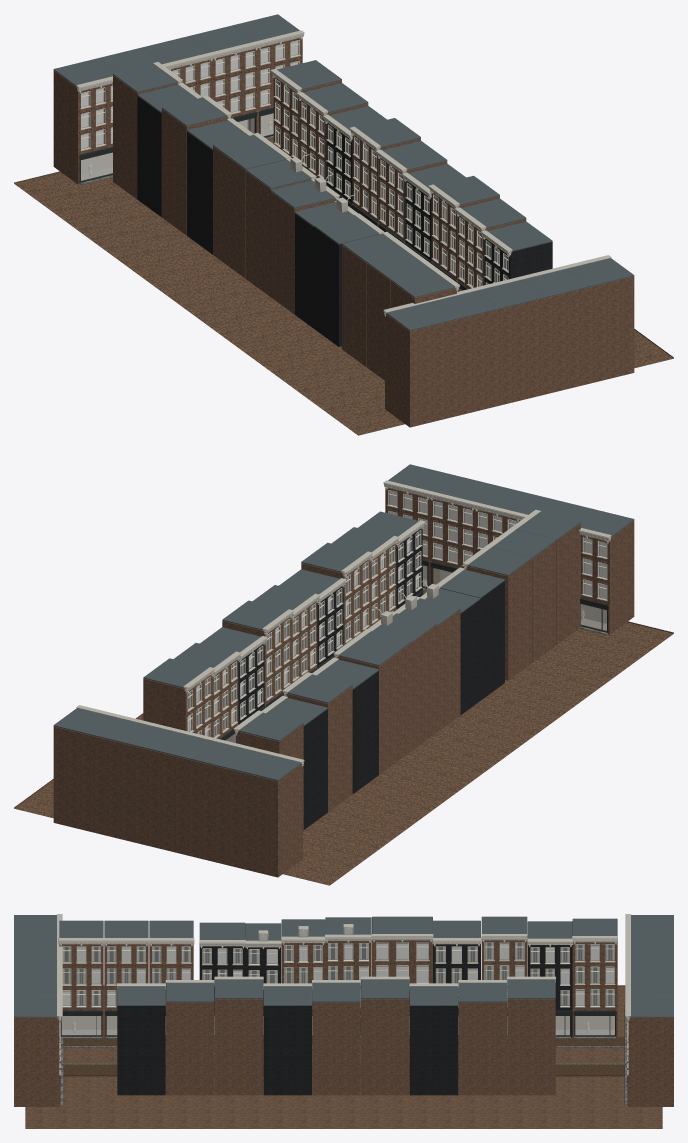
The model's file is street.v1.glb.
3 renders of one model, top to bottom at view 1: azimuth 30°, elevation 25°; view 2: azimuth 150°, elevation 25°; view 3: azimuth 270°, elevation 25°, orthographic. The views are drawn at different scales.
Parts seen in each view (by area): view 1: street_warm_amsterdam_brick, street_slate, street_herringbone_clinker, street_charcoal_painted_brick, street_limestone, street_painted_ivory_timber, street_window_reflection, street_white_window_blind, street_window_interior, street_ironwork, street_linen_curtains, street_shop_interior_plaster; view 2: street_warm_amsterdam_brick, street_slate, street_herringbone_clinker, street_charcoal_painted_brick, street_limestone, street_painted_ivory_timber, street_window_reflection, street_white_window_blind, street_window_interior, street_ironwork, street_linen_curtains; view 3: street_warm_amsterdam_brick, street_slate, street_herringbone_clinker, street_charcoal_painted_brick, street_window_reflection, street_limestone, street_painted_ivory_timber, street_window_interior, street_white_window_blind, street_linen_curtains, street_clay_pavement, street_shop_interior_plaster (+3 smaller).
Boxes of the visible parts, x1,y1,x2,y2 form: street_warm_amsterdam_brick: (53, 38, 634, 427); street_slate: (53, 14, 634, 330); street_herringbone_clinker: (14, 138, 673, 435); street_charcoal_painted_brick: (137, 96, 552, 346); street_limestone: (76, 30, 611, 316); street_painted_ivory_timber: (80, 40, 508, 287); street_window_reflection: (81, 41, 507, 290); street_white_window_blind: (81, 41, 499, 286); street_window_interior: (82, 41, 508, 284); street_ironwork: (79, 57, 509, 291); street_linen_curtains: (90, 81, 506, 283); street_shop_interior_plaster: (81, 113, 273, 173); street_warm_amsterdam_brick: (53, 488, 634, 877); street_slate: (53, 464, 634, 780); street_herringbone_clinker: (14, 590, 673, 885); street_charcoal_painted_brick: (238, 528, 504, 829); street_limestone: (76, 480, 611, 766); street_painted_ivory_timber: (187, 490, 607, 737); street_window_reflection: (188, 491, 606, 742); street_white_window_blind: (188, 491, 606, 735); street_window_interior: (188, 491, 605, 735); street_ironwork: (186, 507, 608, 743); street_linen_curtains: (189, 532, 418, 733); street_warm_amsterdam_brick: (14, 940, 673, 1106); street_slate: (14, 915, 673, 1017); street_herringbone_clinker: (25, 985, 662, 1128); street_charcoal_painted_brick: (117, 944, 572, 1095); street_window_reflection: (62, 928, 614, 1034); street_limestone: (57, 914, 630, 1075); street_painted_ivory_timber: (59, 942, 628, 1073); street_window_interior: (63, 942, 613, 1005); street_white_window_blind: (62, 943, 614, 1005); street_linen_curtains: (62, 942, 614, 1005); street_clay_pavement: (61, 1037, 626, 1076); street_shop_interior_plaster: (61, 1016, 614, 1029).
Size of the model in its own units: 45 by 16.75 by 88.
26 materials, 6 textured.
